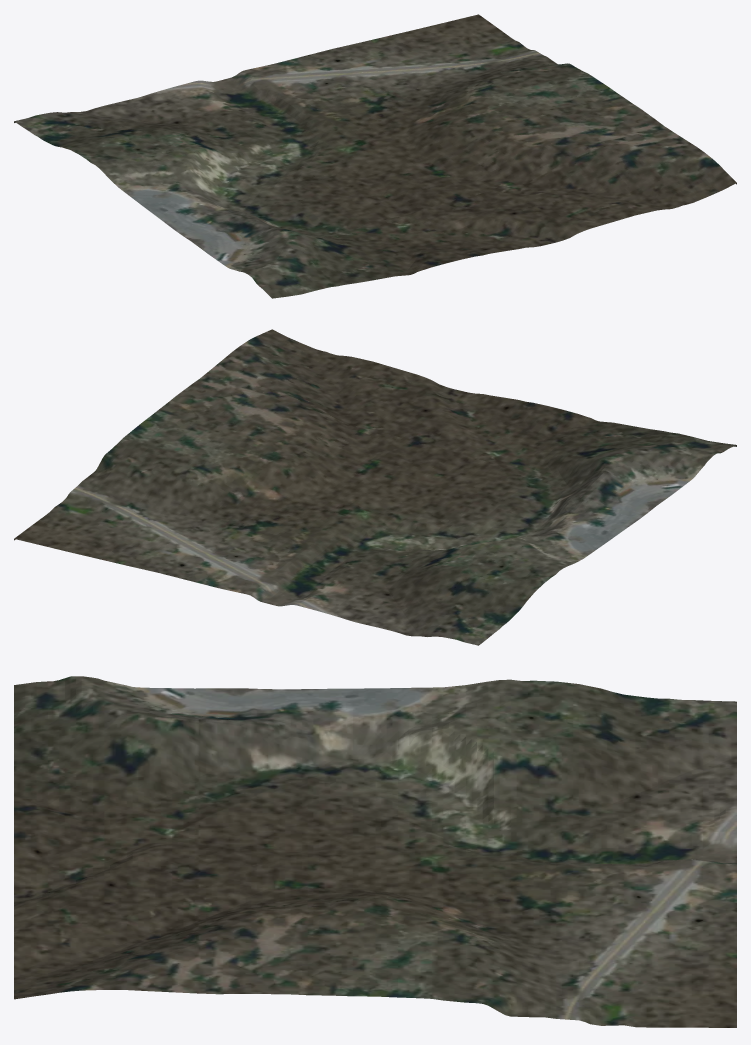
3 views of the same model, one above another, from view 1: azimuth 30°, elevation 25°; view 2: azimuth 150°, elevation 25°; view 3: azimuth 270°, elevation 25° (orthographic). The views are drawn at different scales.
Bounding box in the file's own units: 250 × 16.61 × 241.
Materials: 1 (1 with a texture image).
